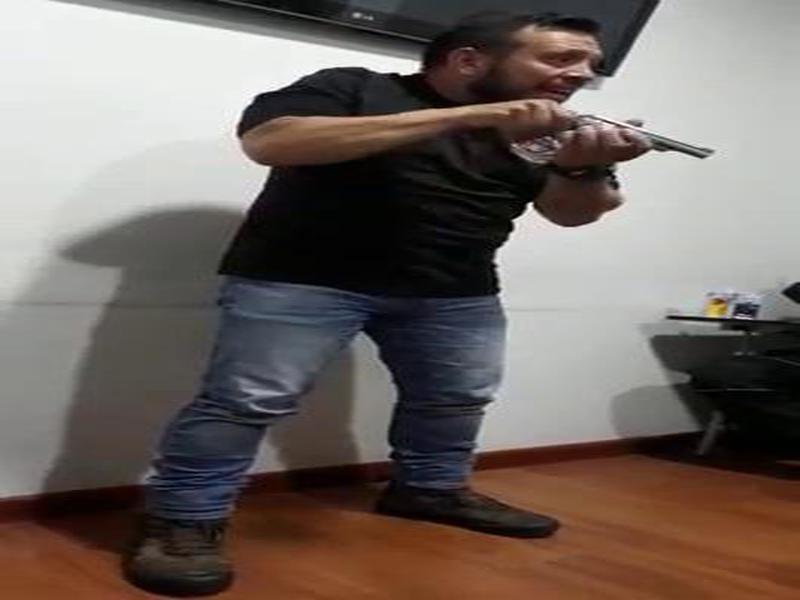Revolver: (527, 96, 730, 208)
